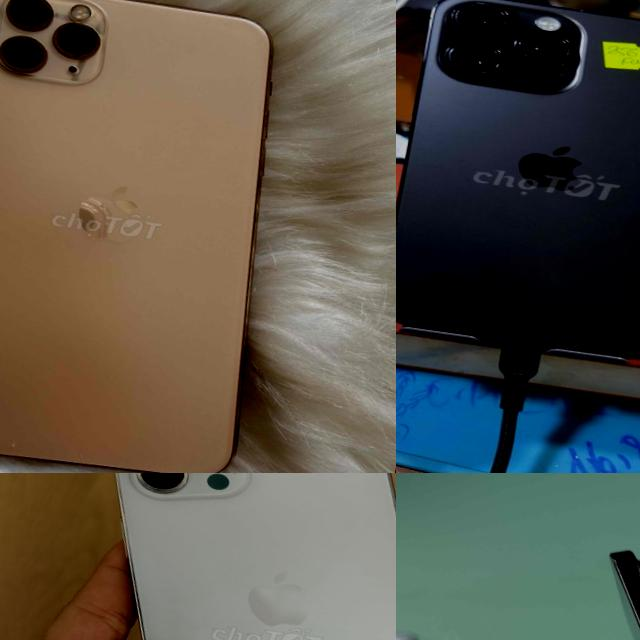gen_11: (0, 0, 306, 473)
gen_12_13: (40, 473, 396, 640)
gen_14: (396, 0, 640, 371)
